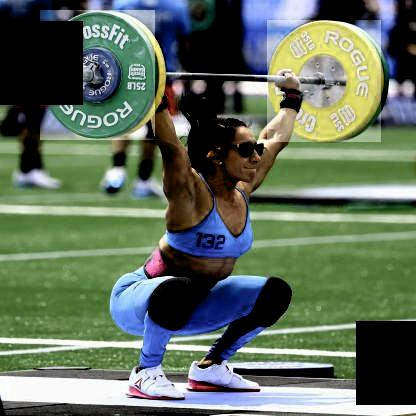barbell: (41, 11, 156, 141), (268, 20, 381, 143)
